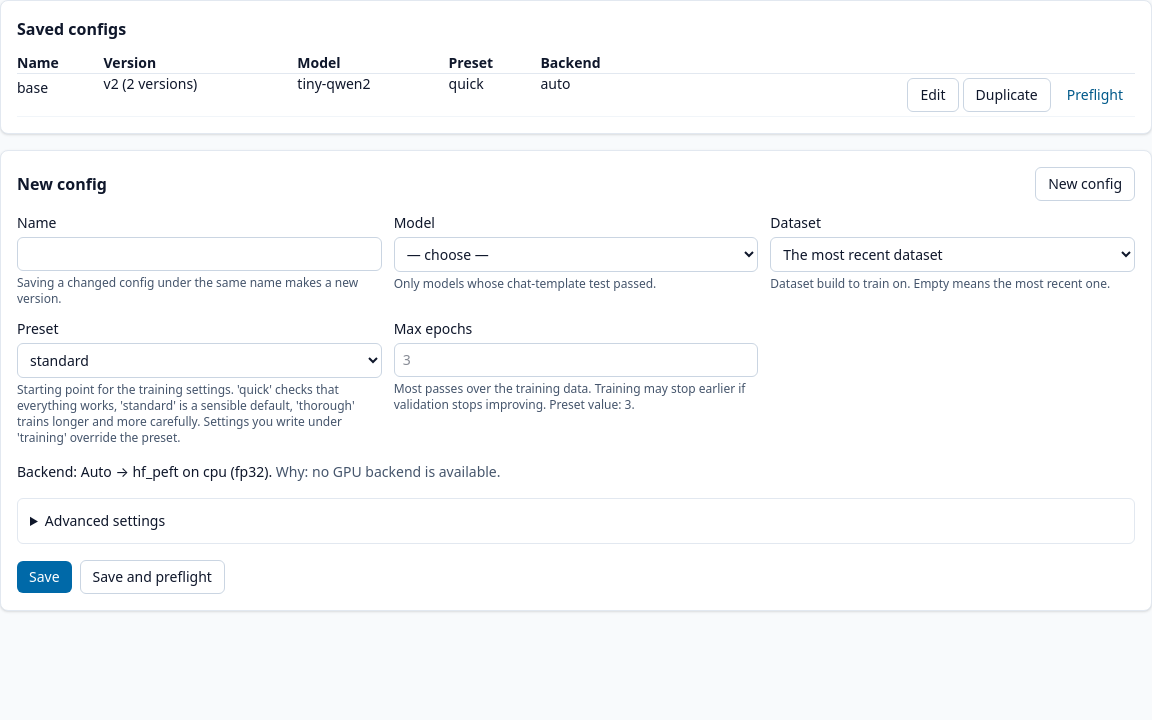
Test: Training config › duplicates a saved config under a new name
Click the button with aria-label "Duplicate base": (1007,95) [962, 78, 1051, 112]
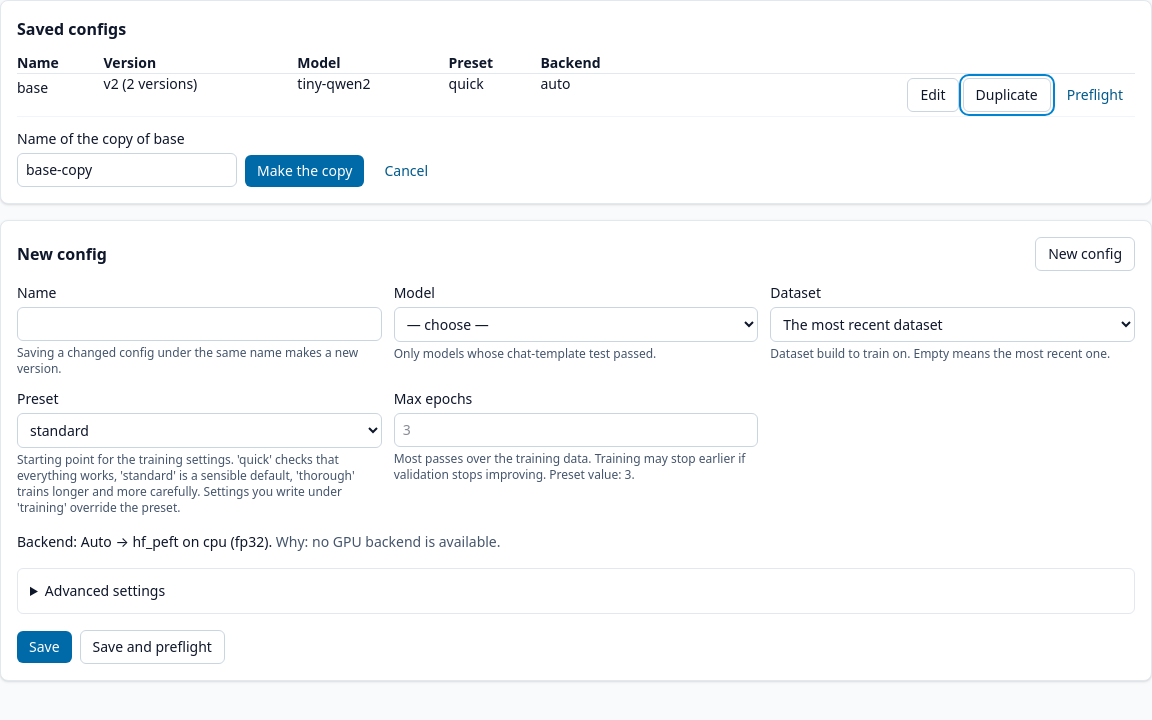
Replace the text in the field labelled "Name of the copy of base" with "base-2": (127,170) [17, 153, 237, 187]
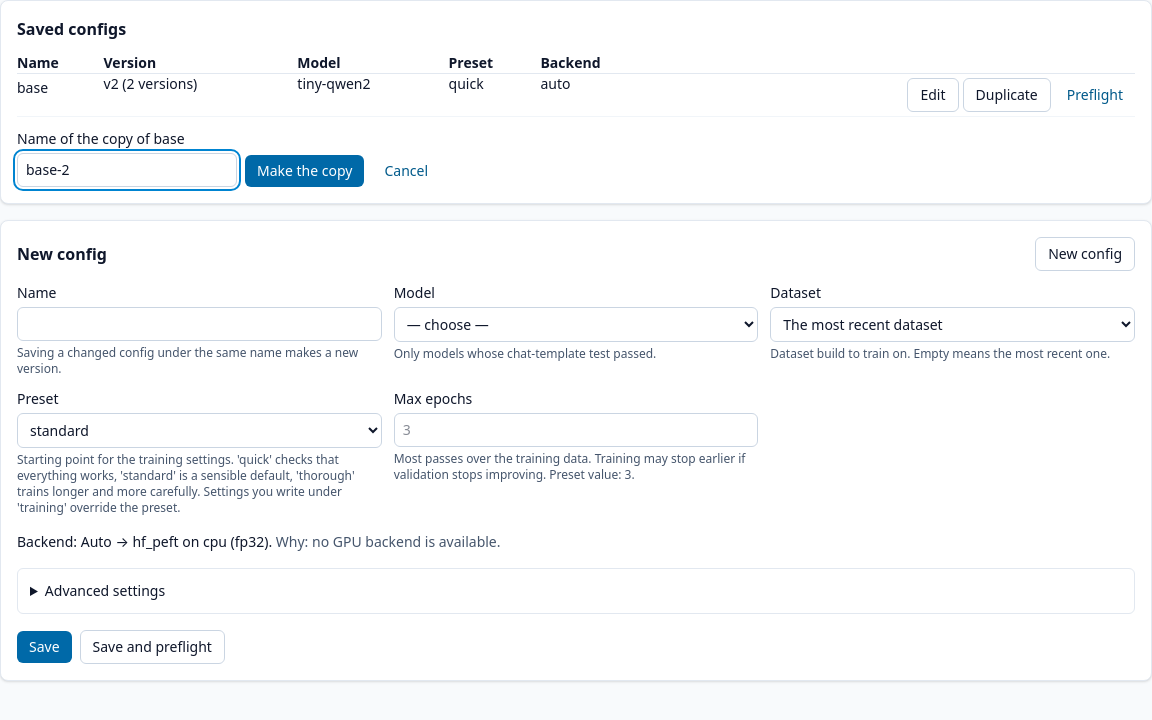
Click the button "Make the copy": (305,171) [245, 155, 364, 187]
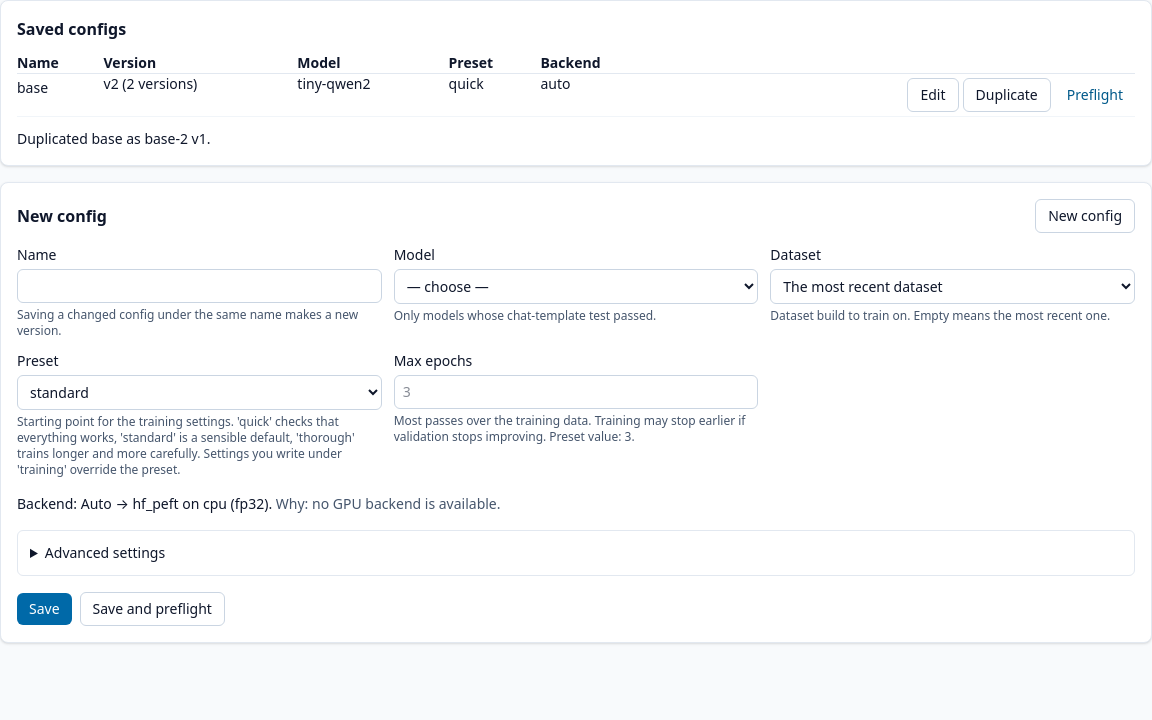
Expected: the text "Duplicated base as base-2 v1." is shown, [17, 129, 210, 148]
